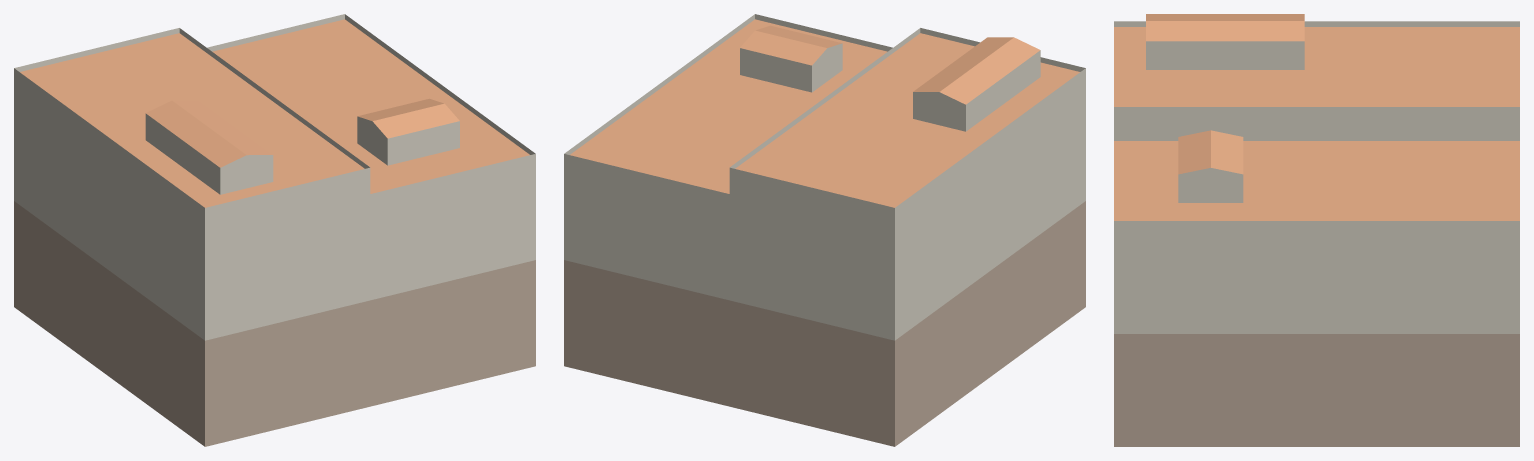
3 views of the same model, side by side, from view 1: azimuth 30°, elevation 25°; view 2: azimuth 150°, elevation 25°; view 3: azimuth 270°, elevation 25° (orthographic). The views are drawn at different scales.
Parts seen in each view (by area): view 1: Object_1, Object_11, Object_5, Object_6, Object_8, Object_7, Object_2, Object_9, Object_3, Object_10, Object_4; view 2: Object_1, Object_11, Object_5, Object_6, Object_8, Object_7, Object_9, Object_3, Object_2, Object_10, Object_4; view 3: Object_1, Object_11, Object_6, Object_5, Object_7, Object_8, Object_10, Object_3, Object_2, Object_9, Object_4.
Part boxes in pixels (x1,y1,x2,y2): Object_1: [14, 14, 535, 340]; Object_11: [14, 201, 535, 446]; Object_5: [20, 33, 364, 207]; Object_6: [212, 19, 529, 193]; Object_8: [146, 100, 272, 167]; Object_7: [145, 113, 273, 194]; Object_2: [14, 28, 370, 212]; Object_9: [357, 116, 459, 165]; Object_3: [207, 14, 535, 199]; Object_10: [358, 98, 459, 138]; Object_4: [14, 68, 204, 212]; Object_1: [564, 14, 1085, 340]; Object_11: [564, 201, 1085, 446]; Object_5: [735, 33, 1079, 207]; Object_6: [570, 19, 887, 193]; Object_8: [913, 37, 1040, 104]; Object_7: [913, 50, 1040, 131]; Object_9: [740, 43, 842, 92]; Object_3: [564, 14, 892, 199]; Object_2: [729, 28, 1085, 212]; Object_10: [740, 25, 841, 65]; Object_4: [895, 68, 1085, 212]; Object_1: [1114, 21, 1519, 333]; Object_11: [1114, 334, 1519, 446]; Object_6: [1114, 141, 1519, 220]; Object_5: [1114, 27, 1519, 106]; Object_7: [1146, 41, 1304, 69]; Object_8: [1146, 14, 1304, 41]; Object_10: [1178, 130, 1243, 174]; Object_3: [1114, 221, 1519, 226]; Object_2: [1114, 107, 1519, 112]; Object_9: [1178, 168, 1243, 202]; Object_4: [1114, 21, 1519, 26].
Bounding box in the file's own units: 1283 × 1283 × 989.
